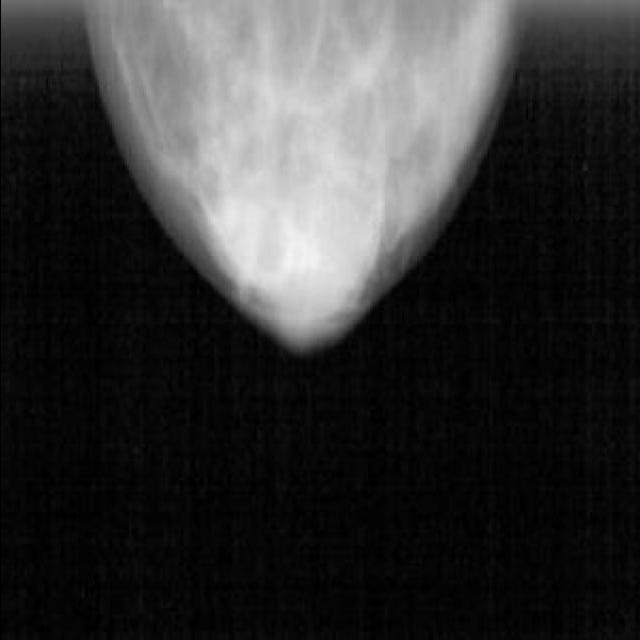tumor: (206, 168, 392, 292)
